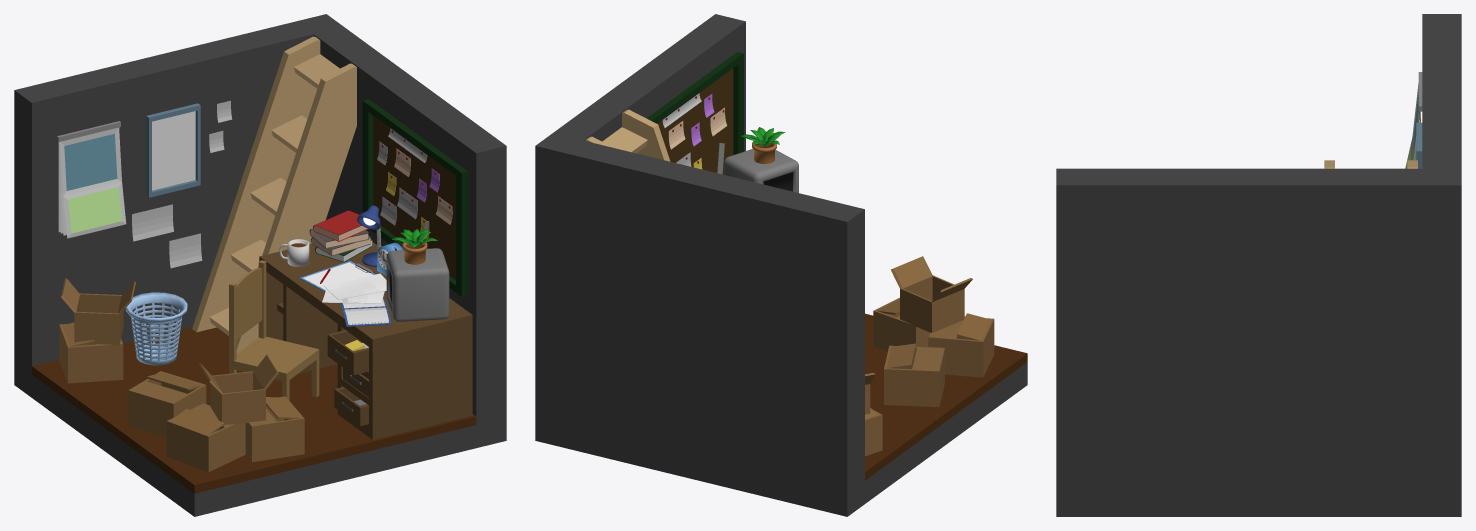
3 renders of one model, left to right at view 1: azimuth 30°, elevation 25°; view 2: azimuth 150°, elevation 25°; view 3: azimuth 270°, elevation 25°, orthographic. The views are drawn at different scales.
Visible parts, largest first — view 1: Cube.002_0, Cube.003_1, Cube_2, Cube.016_27, Cube.001_4, Cube.006_6, Cube.004_3, Cube.005_5, Cube.017_28, Cube.012_11, Cube.013_12, Cylinder.010_49 (+13 smaller); view 2: Cube.002_0, Cube.016_27, Cube.001_4, Cube.010_9, Cube.013_12, Cube.012_11, Cube.017_28, Cube.003_1, Cube.011_10, Cylinder.007_32, Cube.008_8; view 3: Cube.002_0, Cube.006_6.
Part boxes in pixels (bbox=[...]): Cube.002_0: bbox=[14, 14, 506, 516]; Cube.003_1: bbox=[192, 36, 356, 353]; Cube_2: bbox=[259, 242, 472, 439]; Cube.016_27: bbox=[31, 327, 476, 493]; Cube.001_4: bbox=[362, 99, 467, 296]; Cube.006_6: bbox=[57, 121, 126, 238]; Cube.004_3: bbox=[229, 260, 319, 400]; Cube.005_5: bbox=[146, 103, 200, 197]; Cube.017_28: bbox=[386, 248, 449, 321]; Cube.012_11: bbox=[166, 403, 245, 472]; Cube.013_12: bbox=[128, 371, 206, 437]; Cylinder.010_49: bbox=[125, 292, 187, 365]; Cube.002_0: bbox=[535, 14, 1027, 516]; Cube.016_27: bbox=[865, 313, 1027, 480]; Cube.001_4: bbox=[646, 52, 743, 174]; Cube.010_9: bbox=[891, 256, 972, 332]; Cube.013_12: bbox=[884, 343, 944, 407]; Cube.012_11: bbox=[928, 313, 994, 377]; Cube.017_28: bbox=[724, 149, 798, 192]; Cube.003_1: bbox=[585, 109, 670, 161]; Cube.011_10: bbox=[873, 297, 930, 351]; Cylinder.007_32: bbox=[741, 127, 785, 163]; Cube.008_8: bbox=[865, 408, 882, 456]; Cube.002_0: bbox=[1056, 14, 1461, 516]; Cube.006_6: bbox=[1405, 72, 1422, 168].
Size of the model in its own units: 2.22 by 2 by 2.22.
